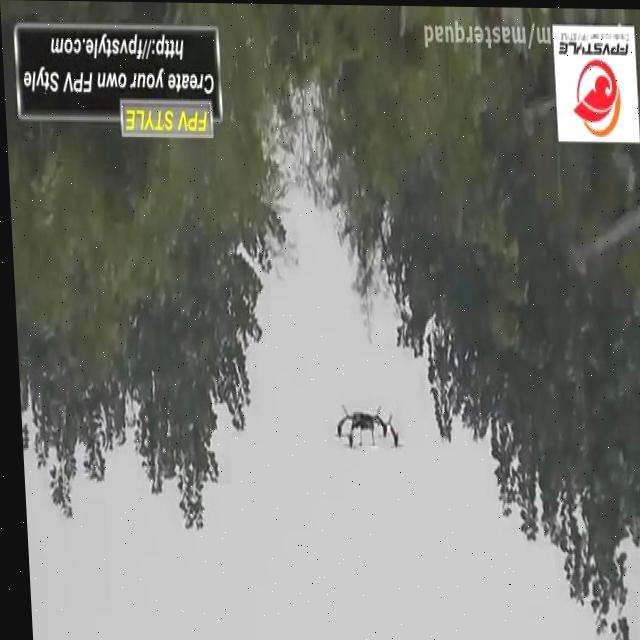drone: (326, 402, 401, 462)
